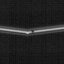dust: (30, 29, 34, 33)
